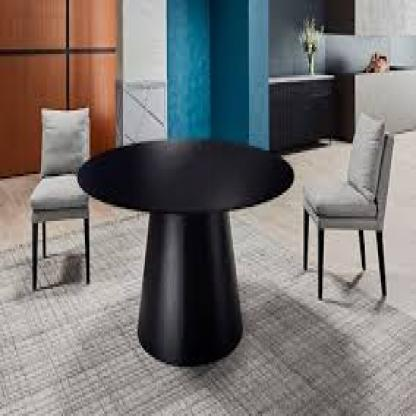Dining Table: (27, 82, 404, 370)
